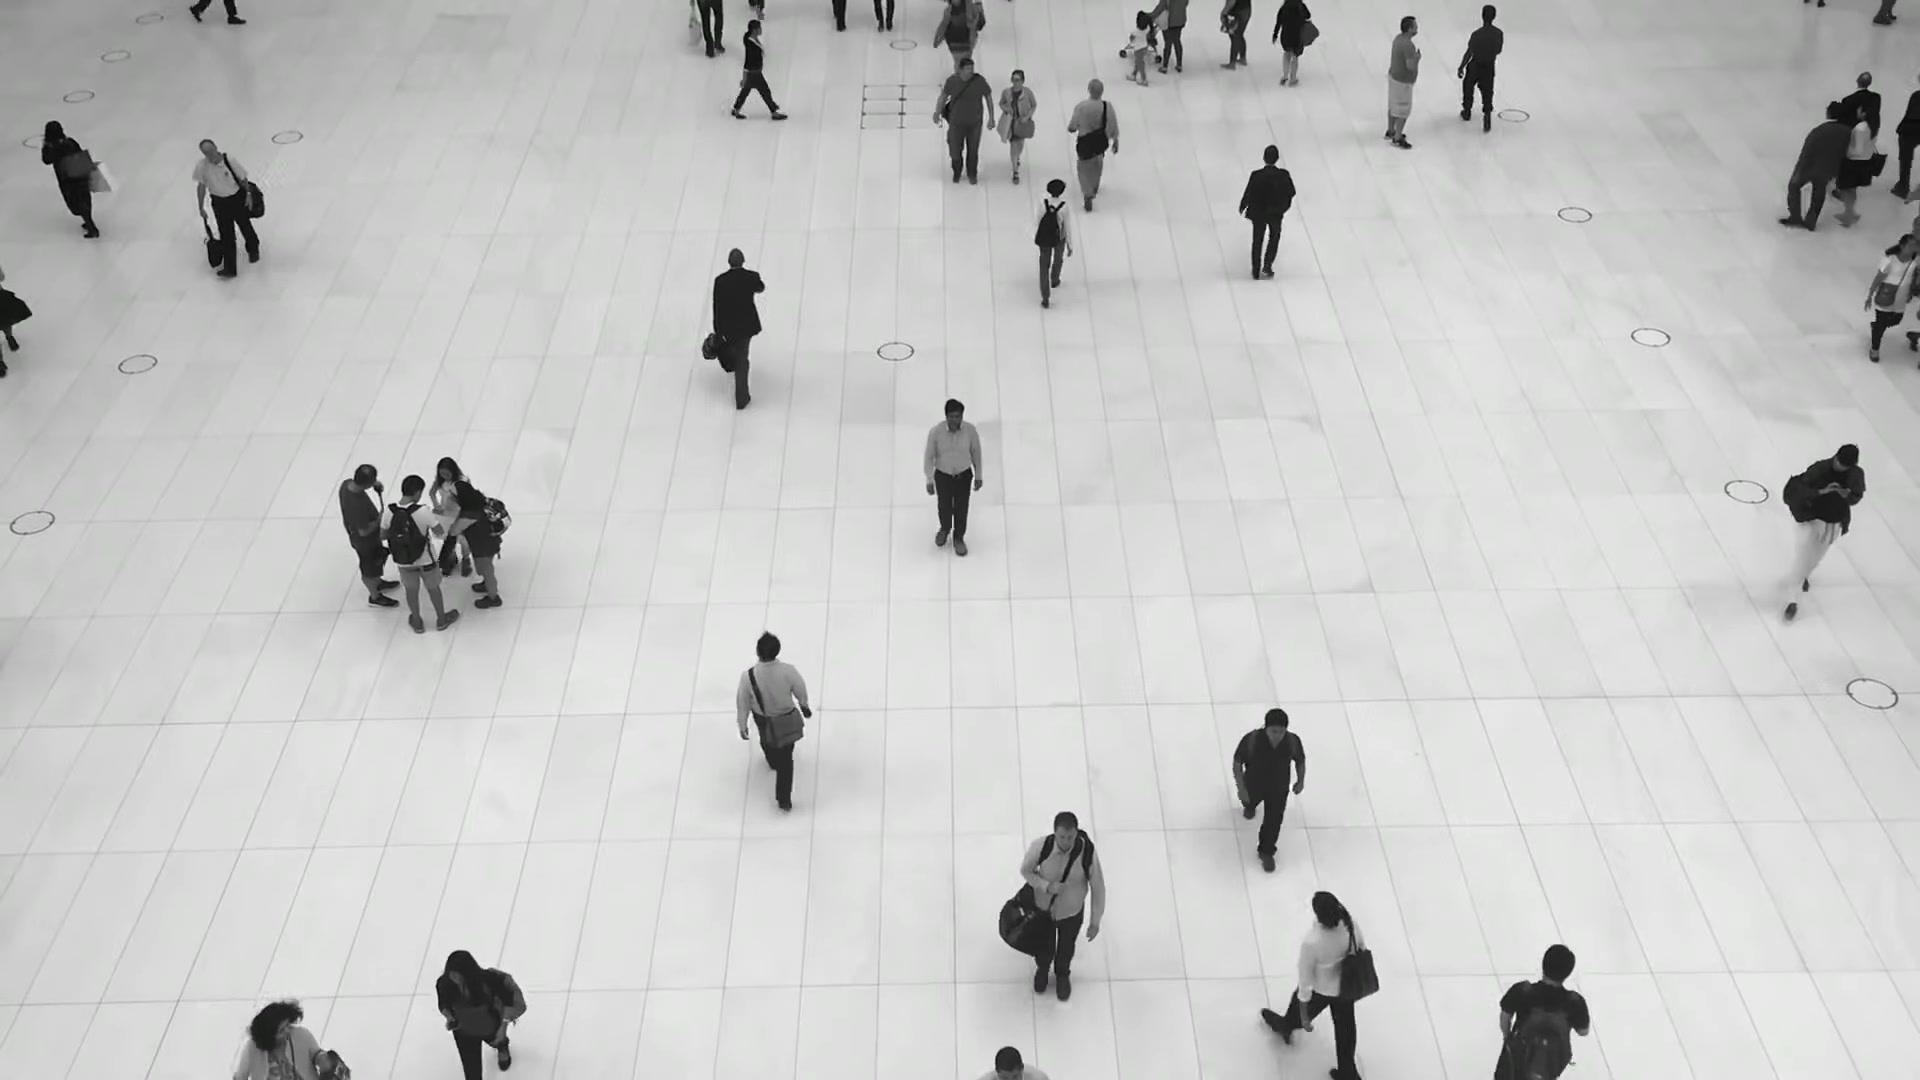person: (1258, 888, 1368, 1080), (1018, 816, 1106, 1036), (1781, 446, 1864, 621), (378, 476, 460, 636), (1495, 945, 1590, 1080), (734, 628, 809, 794), (1227, 706, 1307, 857), (919, 402, 986, 574), (1762, 105, 1847, 238), (431, 949, 512, 1077), (191, 140, 260, 280), (336, 464, 400, 609), (710, 247, 766, 407), (1811, 104, 1876, 231), (1241, 147, 1297, 289), (932, 59, 992, 195), (233, 999, 330, 1080), (39, 118, 100, 240), (1862, 234, 1918, 363), (1066, 76, 1121, 204), (449, 481, 501, 610), (1456, 3, 1505, 129), (1030, 175, 1075, 299), (427, 457, 469, 580), (1383, 15, 1421, 149), (996, 69, 1036, 182), (734, 16, 776, 122), (1267, 0, 1309, 92), (1128, 11, 1149, 87)
